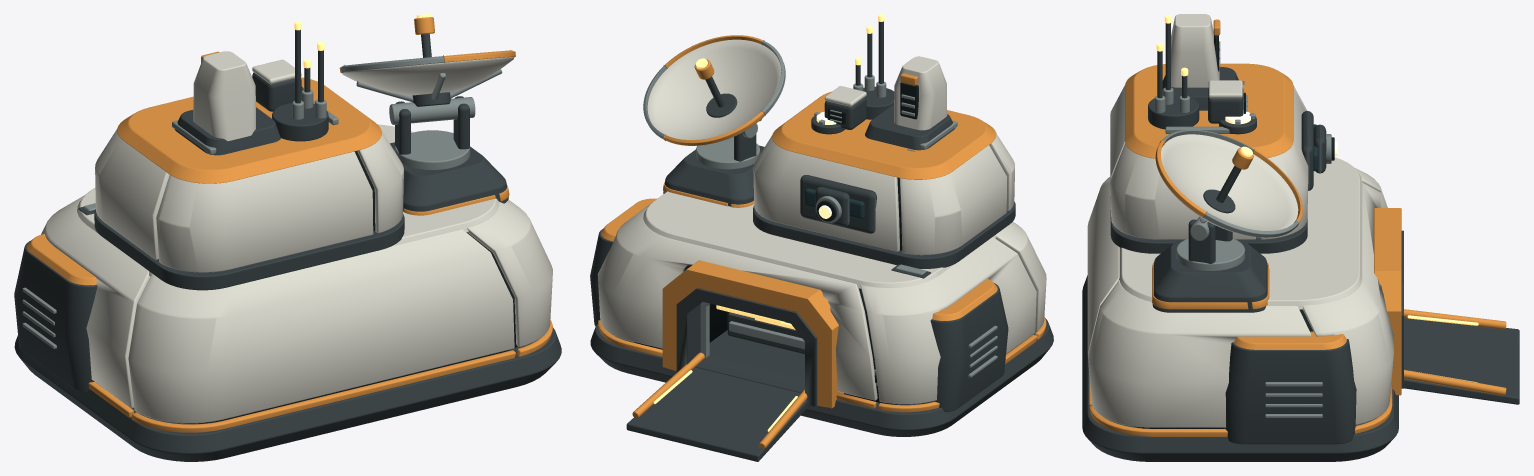
Rendered from command-hq.glb.
The picture shows the model from 3 angles, left to right: view 1: azimuth 30°, elevation 25°; view 2: azimuth 150°, elevation 25°; view 3: azimuth 270°, elevation 25°; orthographic projection. The views are drawn at different scales.
Visible parts, largest first — view 1: HQ_Static_HQ_Ceramic, HQ_Static_HQ_Metal, HQ_Static_HQ_Team, Dish_Tilt_HQ_Ceramic, Radar_Pivot_HQ_Alloy, HQ_Static_HQ_Alloy, Dish_Tilt_HQ_Alloy, Radar_Pivot_HQ_Metal, HQ_Static_HQ_Recess, Dish_Tilt_HQ_Team, Dish_Tilt_HQ_Metal; view 2: HQ_Static_HQ_Ceramic, HQ_Static_HQ_Metal, HQ_Static_HQ_Team, Dish_Tilt_HQ_Ceramic, HQ_Static_HQ_Alloy, HQ_Static_HQ_Recess, Dish_Tilt_HQ_Team, Radar_Pivot_HQ_Alloy, Hangar_Door_HQ_Alloy, Hangar_Door_HQ_Metal, Dish_Tilt_HQ_Alloy, HQ_Static_HQ_Lights (+3 smaller); view 3: HQ_Static_HQ_Ceramic, HQ_Static_HQ_Metal, HQ_Static_HQ_Team, Dish_Tilt_HQ_Ceramic, HQ_Static_HQ_Alloy, Radar_Pivot_HQ_Alloy, Dish_Tilt_HQ_Team, Dish_Tilt_HQ_Alloy, Radar_Pivot_HQ_Metal, Dish_Tilt_HQ_Metal, HQ_Static_HQ_Recess, HQ_Static_HQ_Lights.
Part boxes in pixels (x1,y1,x2,y2): HQ_Static_HQ_Ceramic: [41, 51, 552, 423]; HQ_Static_HQ_Metal: [14, 29, 561, 461]; HQ_Static_HQ_Team: [27, 51, 552, 432]; Dish_Tilt_HQ_Ceramic: [342, 57, 513, 95]; Radar_Pivot_HQ_Alloy: [389, 97, 475, 169]; HQ_Static_HQ_Alloy: [22, 89, 338, 348]; Dish_Tilt_HQ_Alloy: [340, 55, 502, 102]; Radar_Pivot_HQ_Metal: [395, 96, 469, 154]; HQ_Static_HQ_Recess: [185, 151, 517, 423]; Dish_Tilt_HQ_Team: [339, 17, 515, 72]; Dish_Tilt_HQ_Metal: [412, 34, 450, 106]; HQ_Static_HQ_Ceramic: [597, 56, 1046, 404]; HQ_Static_HQ_Metal: [590, 21, 1053, 461]; HQ_Static_HQ_Team: [598, 73, 1046, 448]; Dish_Tilt_HQ_Ceramic: [647, 39, 781, 145]; HQ_Static_HQ_Alloy: [700, 75, 997, 385]; HQ_Static_HQ_Recess: [634, 82, 918, 404]; Dish_Tilt_HQ_Team: [663, 35, 765, 145]; Radar_Pivot_HQ_Alloy: [696, 123, 760, 169]; Hangar_Door_HQ_Alloy: [729, 312, 804, 349]; Hangar_Door_HQ_Metal: [727, 312, 804, 354]; Dish_Tilt_HQ_Alloy: [643, 40, 785, 139]; HQ_Static_HQ_Lights: [653, 14, 884, 431]; HQ_Static_HQ_Ceramic: [1087, 14, 1393, 427]; HQ_Static_HQ_Metal: [1082, 23, 1519, 461]; HQ_Static_HQ_Team: [1089, 19, 1506, 436]; Dish_Tilt_HQ_Ceramic: [1158, 134, 1298, 237]; HQ_Static_HQ_Alloy: [1154, 41, 1331, 417]; Radar_Pivot_HQ_Alloy: [1176, 216, 1244, 270]; Dish_Tilt_HQ_Team: [1155, 140, 1302, 222]; Dish_Tilt_HQ_Alloy: [1162, 129, 1299, 237]; Radar_Pivot_HQ_Metal: [1188, 219, 1232, 263]; Dish_Tilt_HQ_Metal: [1203, 165, 1241, 213]; HQ_Static_HQ_Recess: [1135, 35, 1334, 428]; HQ_Static_HQ_Lights: [1156, 15, 1478, 382].
Bounding box in the file's own units: 1.7 × 1.38 × 1.6.
